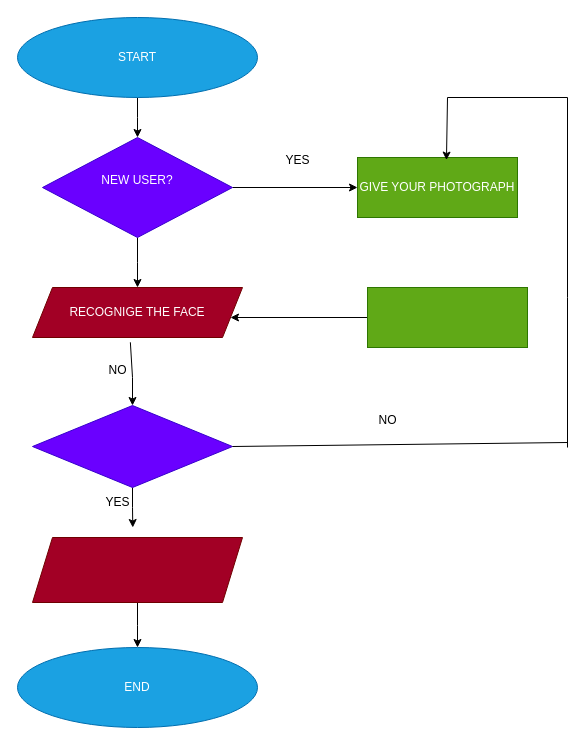
This 586x745 diagram has some shape labels left out. Each missing label, with the centre of its shape:
"FACE RECOGNIZED" goes at point (132, 446).
"STORE THE FACE DATE IN FOLDER ON YOUR NAME" goes at point (447, 317).
"STORED IN C&V FILE WITH RECOGNIZATION NUMBER&DATE TIME OR ENTERY" goes at point (137, 569).
